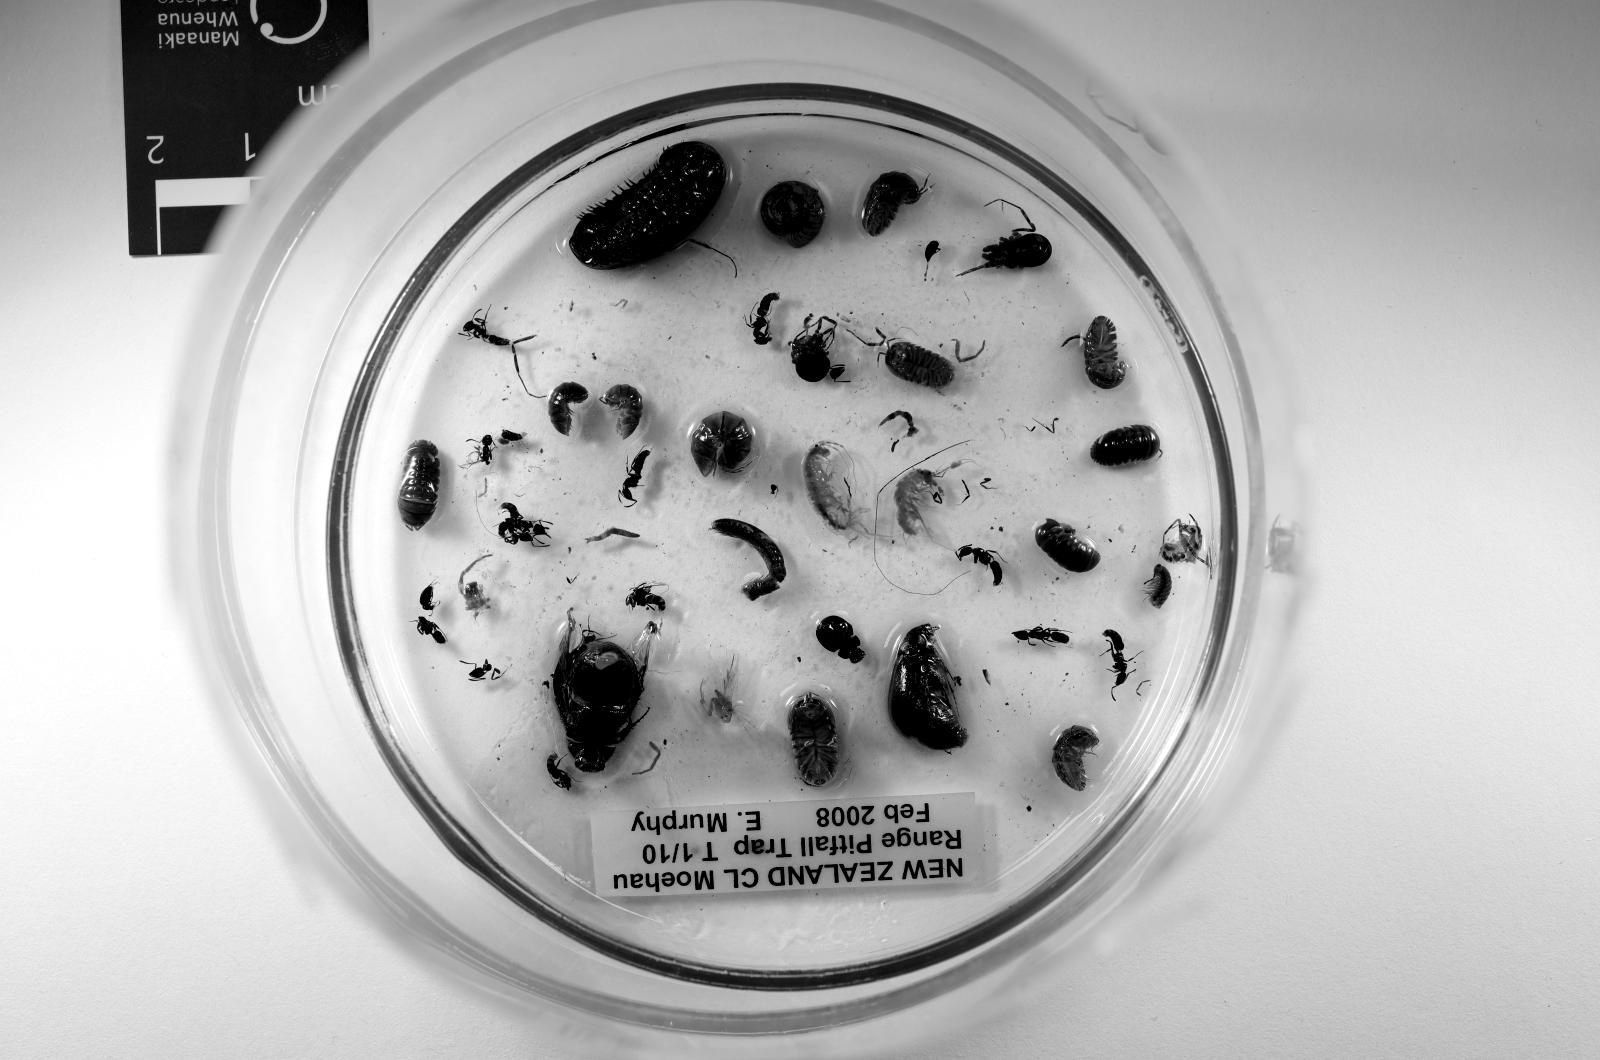amphipoda: (803, 441, 872, 541), (894, 466, 947, 541)
coleoptera: (553, 608, 660, 774), (887, 625, 969, 751), (816, 615, 866, 665), (419, 587, 434, 612)
diplopoda: (713, 518, 784, 600)
formicidae: (462, 310, 516, 348), (957, 547, 1003, 587), (618, 451, 650, 506), (1103, 631, 1132, 690), (750, 292, 778, 344), (626, 584, 666, 612), (1012, 627, 1069, 642)
gastropoda: (759, 180, 825, 248)
isopoda: (569, 143, 728, 270), (788, 696, 837, 786), (862, 170, 928, 237), (397, 441, 441, 531), (691, 413, 753, 476), (885, 342, 957, 392), (1035, 518, 1100, 571), (1054, 726, 1100, 791), (1084, 317, 1125, 388), (1090, 426, 1159, 466), (600, 386, 643, 438), (546, 382, 588, 435)
opiliones: (972, 208, 1054, 270), (791, 314, 837, 382)
